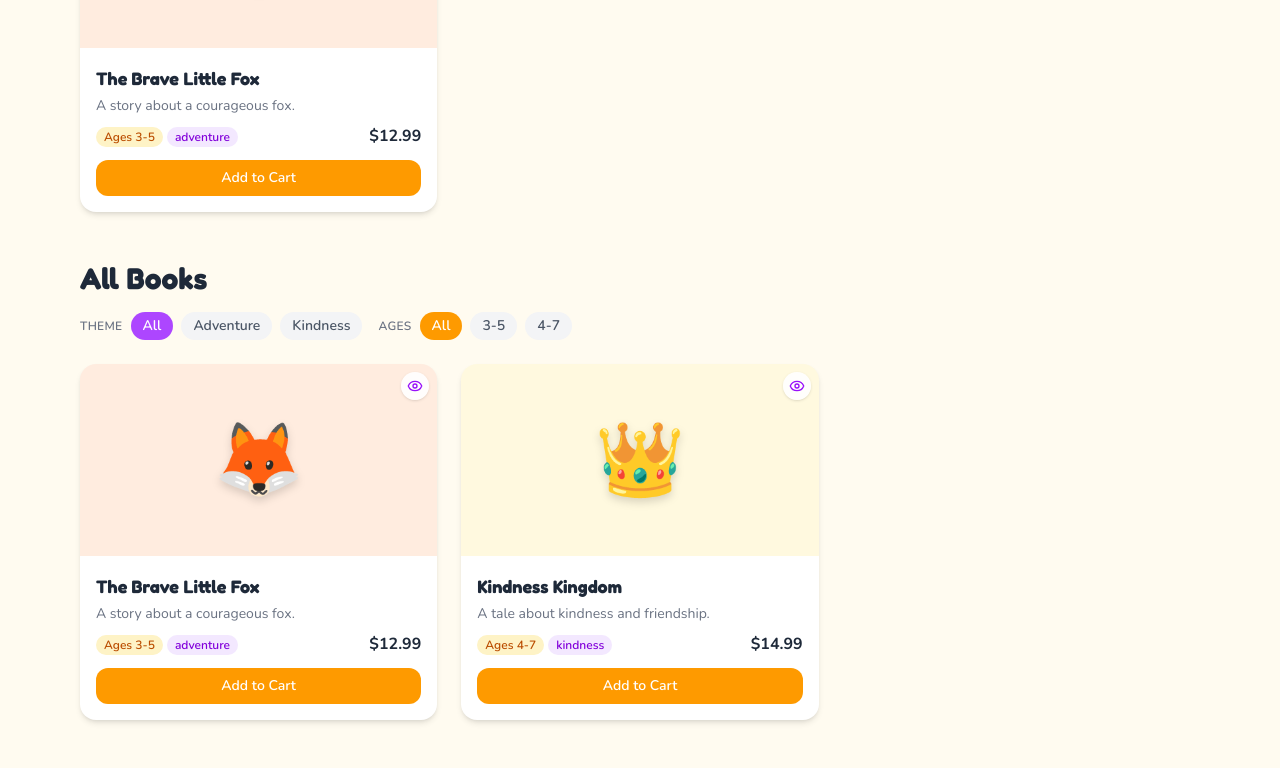
Home › renders theme filter buttons and filters books when clicked
(page scrolled)
Expected: the number of buttons "All" is 2, [130,312,173,340]; [420,312,462,340]
Expected: the button "kindness" is shown, [280,312,362,340]
# Click the "adventure" theme filter
What coordinates should you click on to do the following:
click the button "adventure"
I would click on:
 (227, 326)
Its box is [181,312,272,340].
(page scrolled)
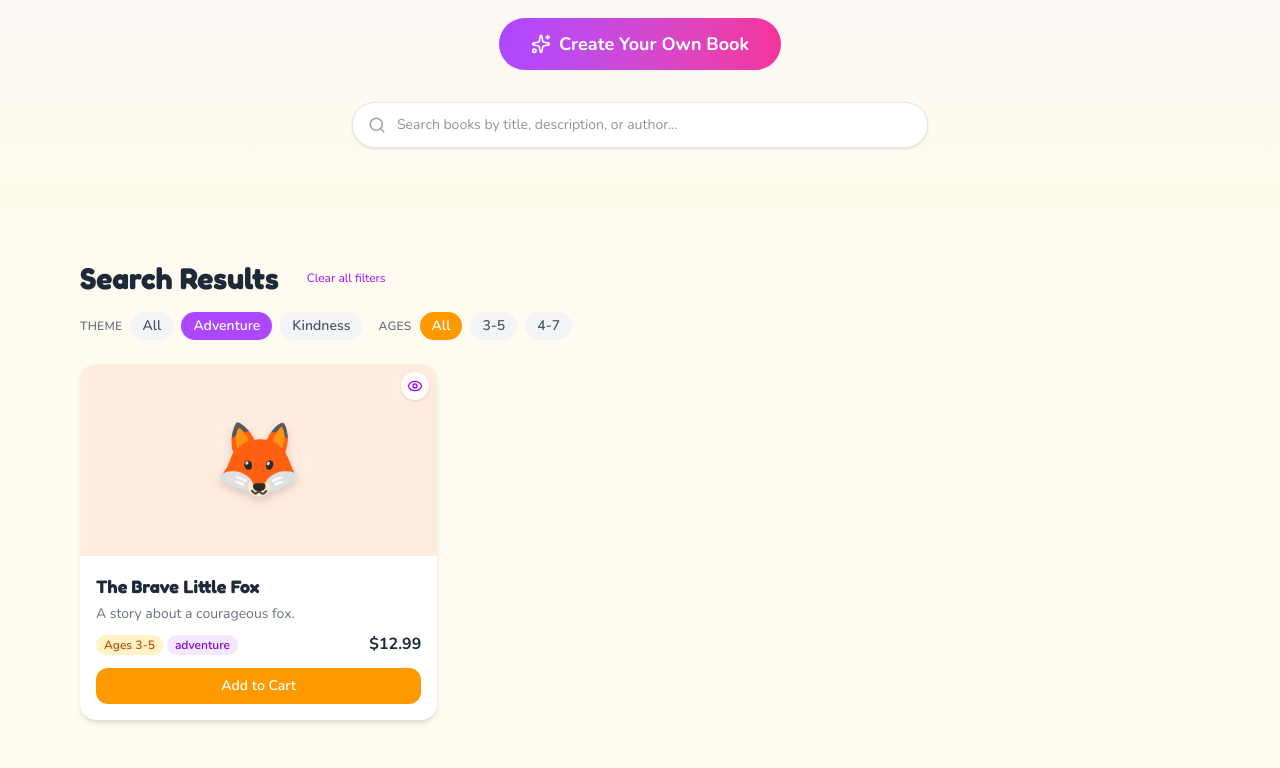
Result: the link "Kindness Kingdom" is gone
# Click theme "All" to reset (first All button is the theme one)
What coordinates should you click on to do the following:
click the button "All" next to "Theme"
I would click on:
 (152, 326)
Its box is [130,312,173,340].
(page scrolled)
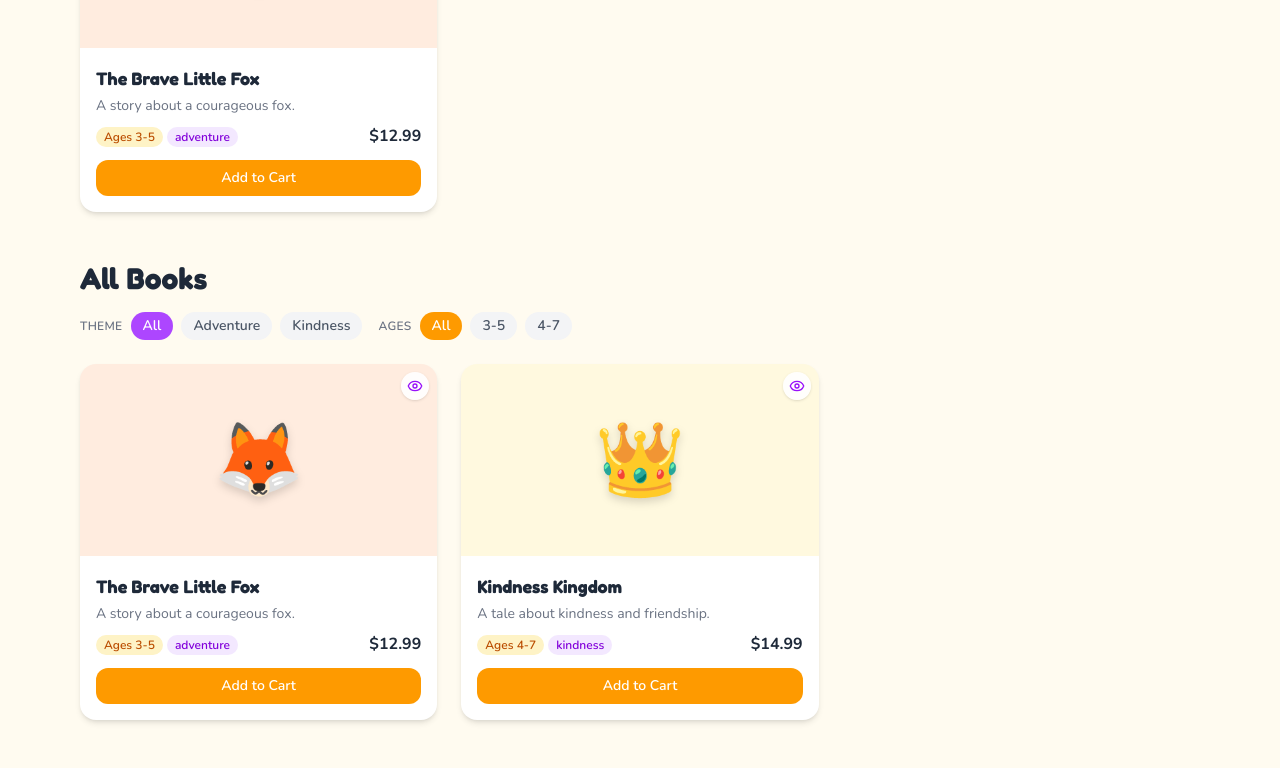
Result: the heading "Kindness Kingdom" is shown at [477,575,622,597]
